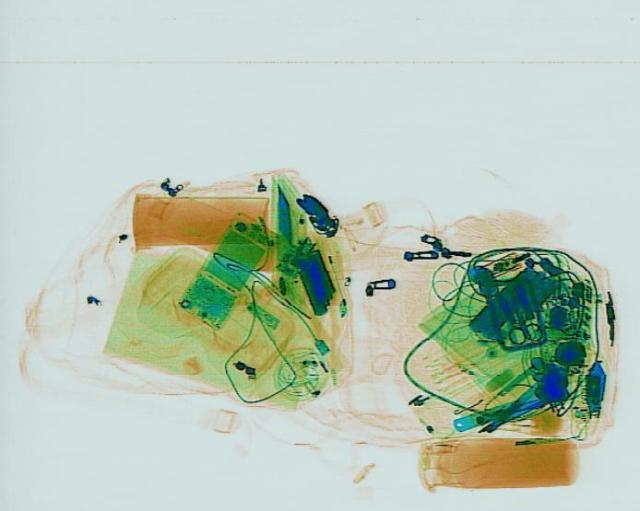Scissors: (494, 292, 548, 345)
